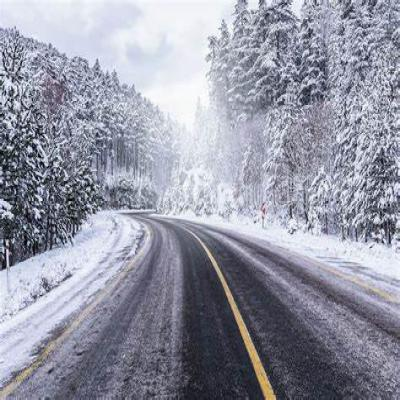iced-road: (4, 214, 400, 400)
